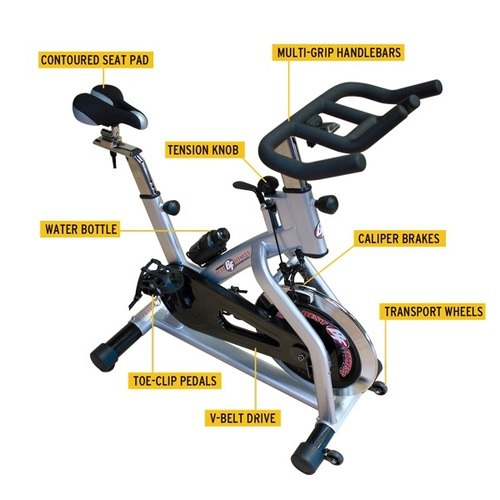gym_bike: (49, 69, 445, 472)
